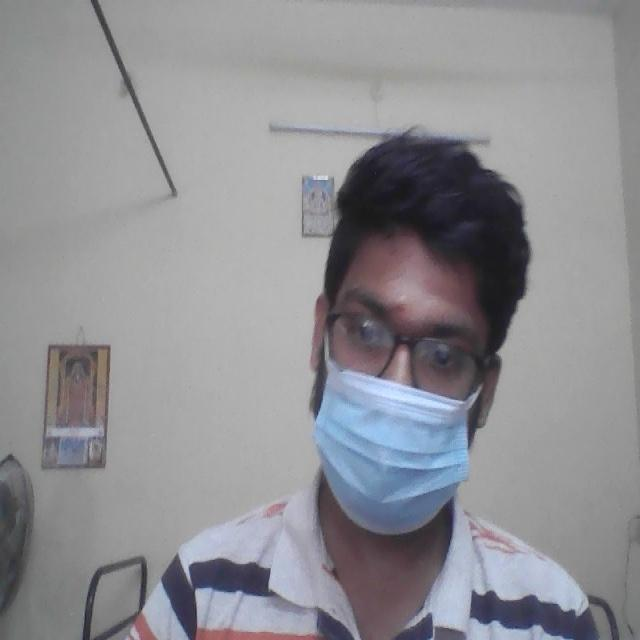Focused: (314, 276, 490, 470)
